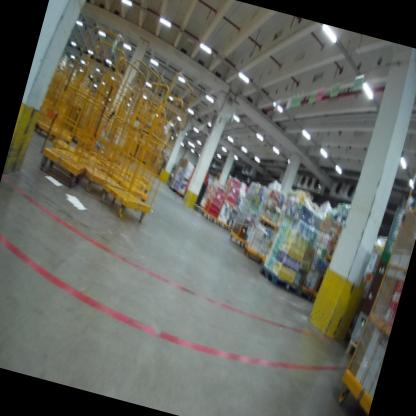pallet: (340, 332, 363, 361)
